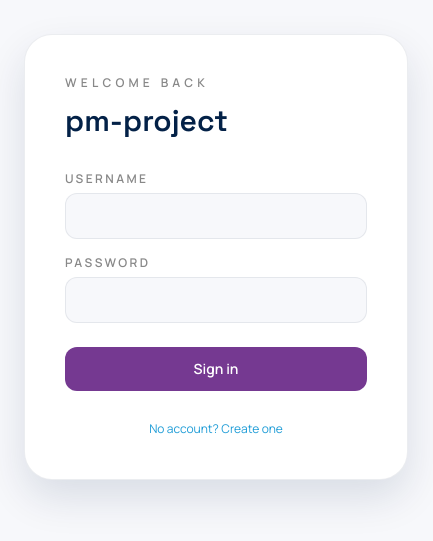
Scenario: LoginPage › shows error on 401 login response
Type "user" into the field labelled "Username" at (216, 216), box [65, 193, 367, 239]
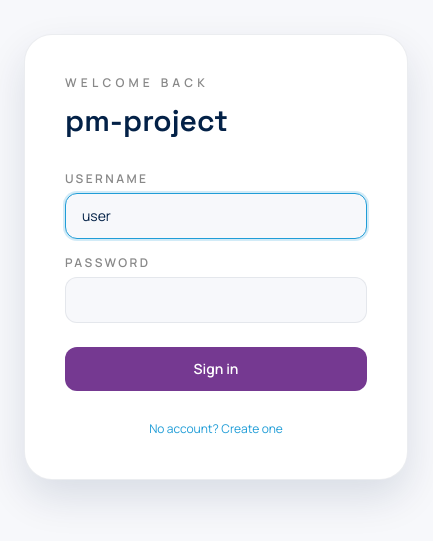
Type "wrong" into the password field labelled "Password" at (216, 300), box [65, 277, 367, 323]
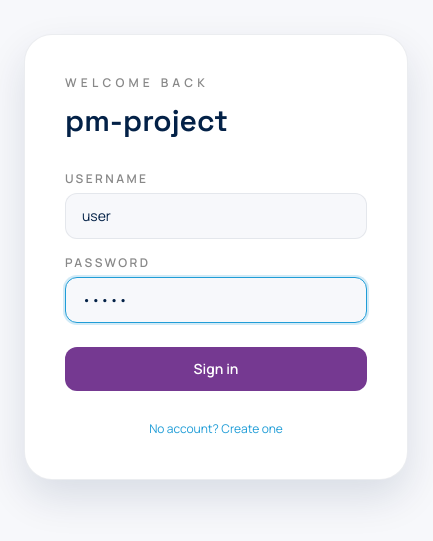
Click the button "Sign in" at (216, 369), box [65, 347, 367, 391]
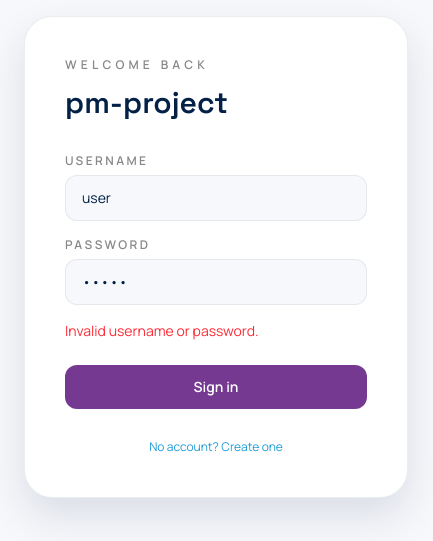
Expected: the text "Invalid username or password." is shown, [65, 321, 259, 340]
